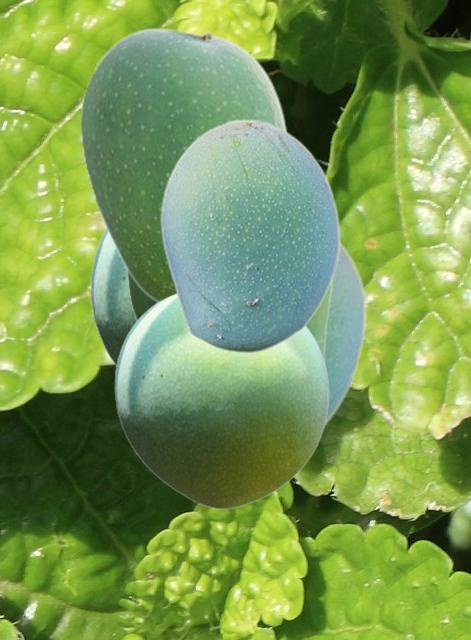green_mango: (80, 27, 289, 302), (114, 291, 328, 508), (159, 118, 340, 353), (127, 274, 332, 365), (325, 241, 366, 428), (90, 226, 134, 367)
